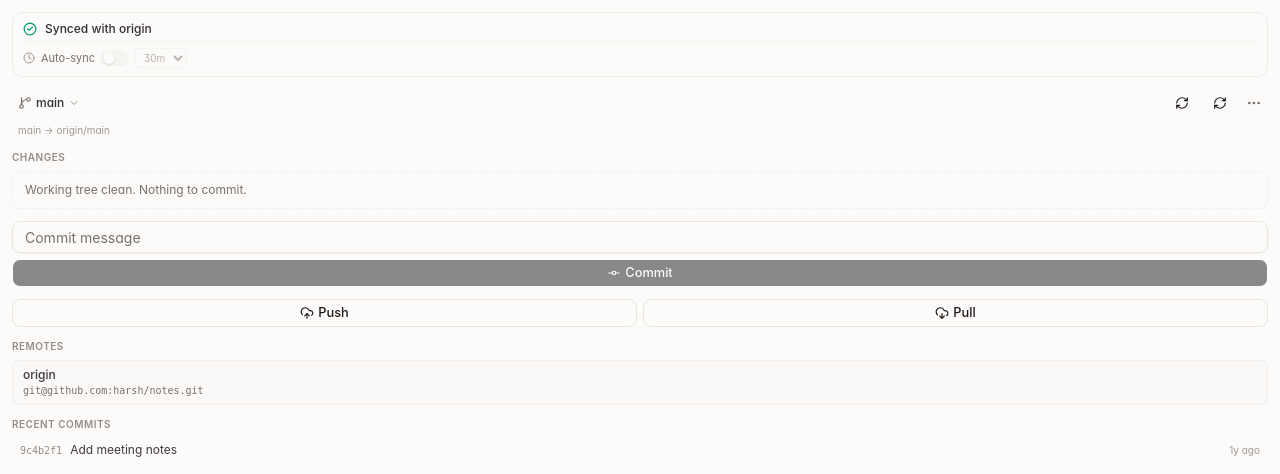
it: overflow menu › opens without throwing and shows its actions
Click the button named "More actions" at [1254, 103], box x1=1240 y1=89 x2=1268 y2=117
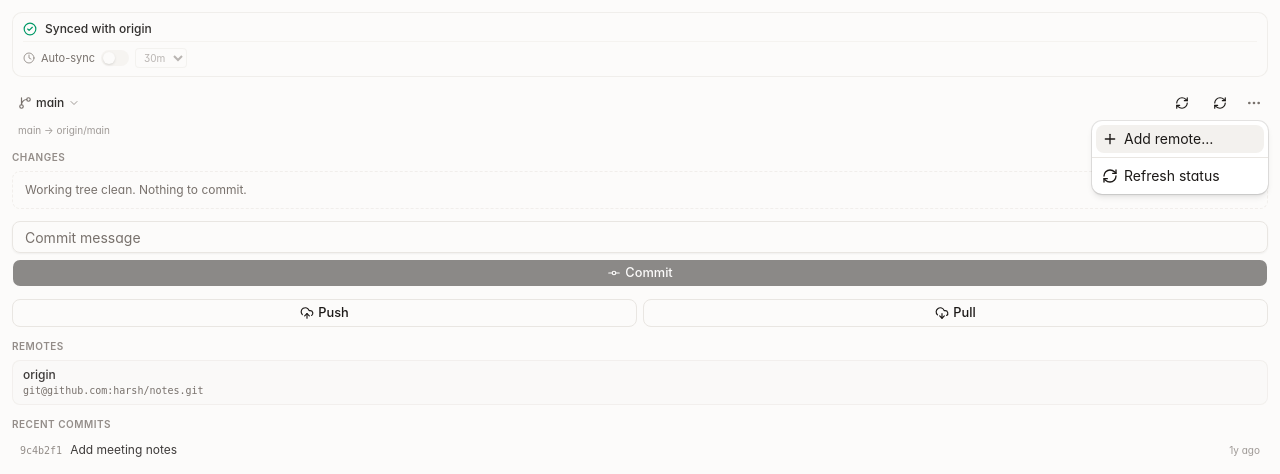
Check: the menu is shown, box x1=1092 y1=121 x2=1268 y2=194
Check: the menu item "Add remote…" is shown, box x1=1096 y1=125 x2=1264 y2=153
Check: the menu item "Refresh status" is shown, box x1=1102 y1=167 x2=1220 y2=184
